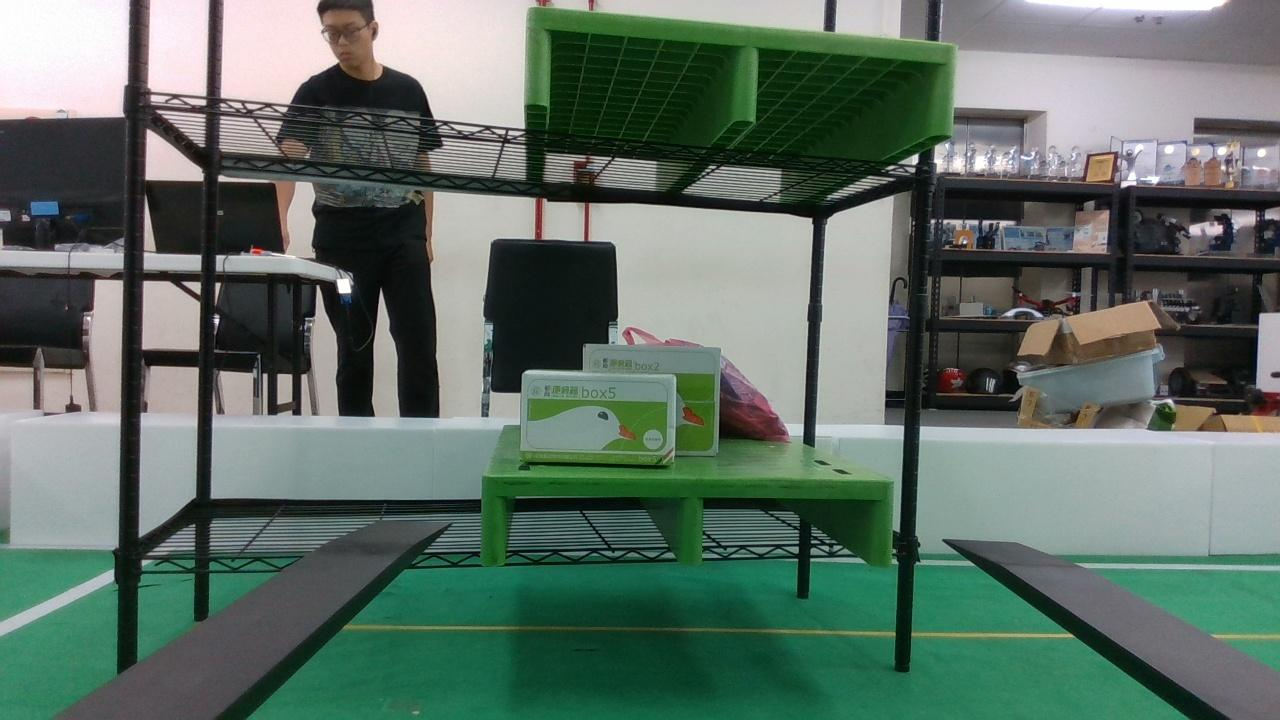Pallet: (521, 5, 964, 140), (475, 476, 896, 574)
